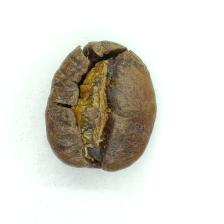NG: (58, 37, 127, 165)
